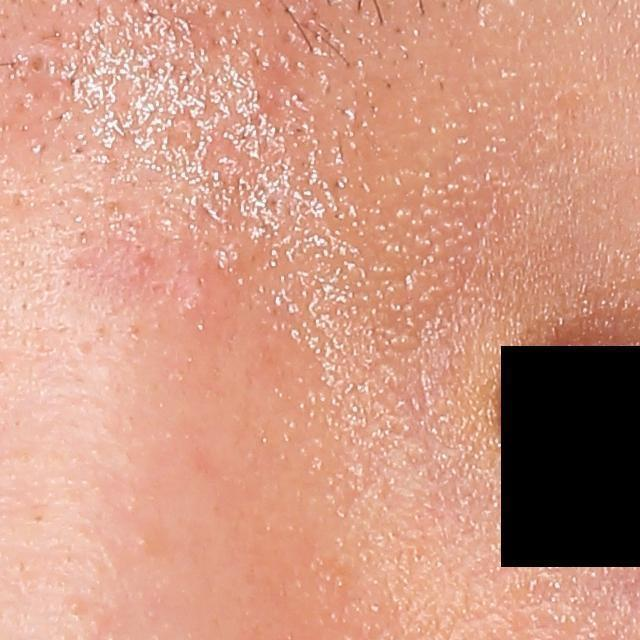comedo: (25, 51, 52, 80), (67, 596, 85, 614)
